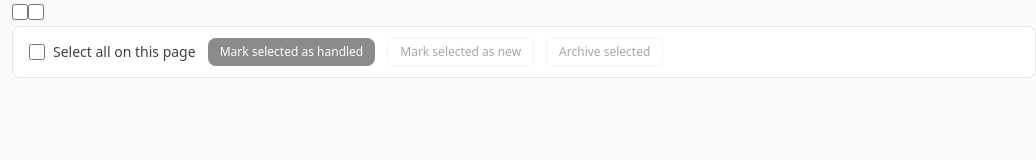
Test: BulkActionBar — skipped inquiry notice › shows a non-blocking notice when some selected inquiries were skipped
What coordinates should you click on to do the following:
click the 1st checkbox named "Select inquiry"
I would click on:
 (20, 12)
Its box is [12,4,28,20].
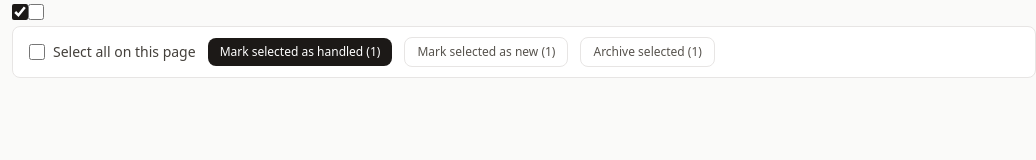
What coordinates should you click on to do the following:
click the 2nd checkbox named "Select inquiry"
I would click on:
 (36, 12)
Its box is [28,4,44,20].
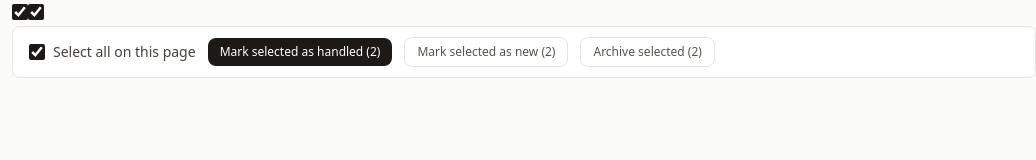
What coordinates should you click on to do the following:
click the button "Mark selected as handled (2)"
I would click on:
 (300, 52)
Its box is [208,38,392,66].
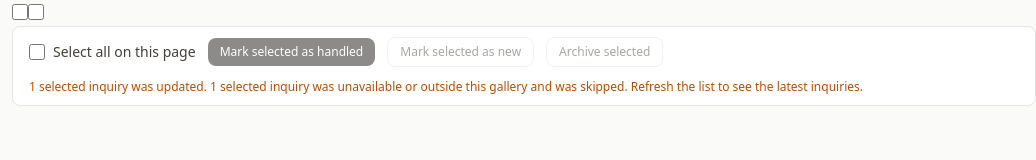
Now the message shows "1 selected inquiry was updated. 1 selected inquiry was unavailable or outside this gallery and was skipped.", box [29,78,863,95]
